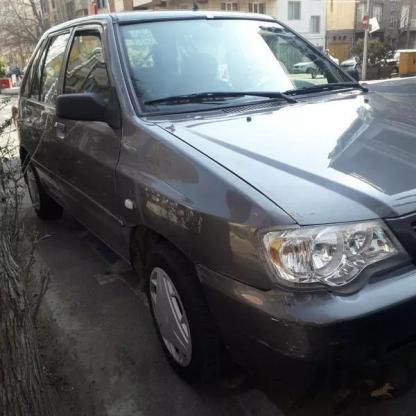Car: (0, 0, 416, 385), (290, 46, 343, 75)
